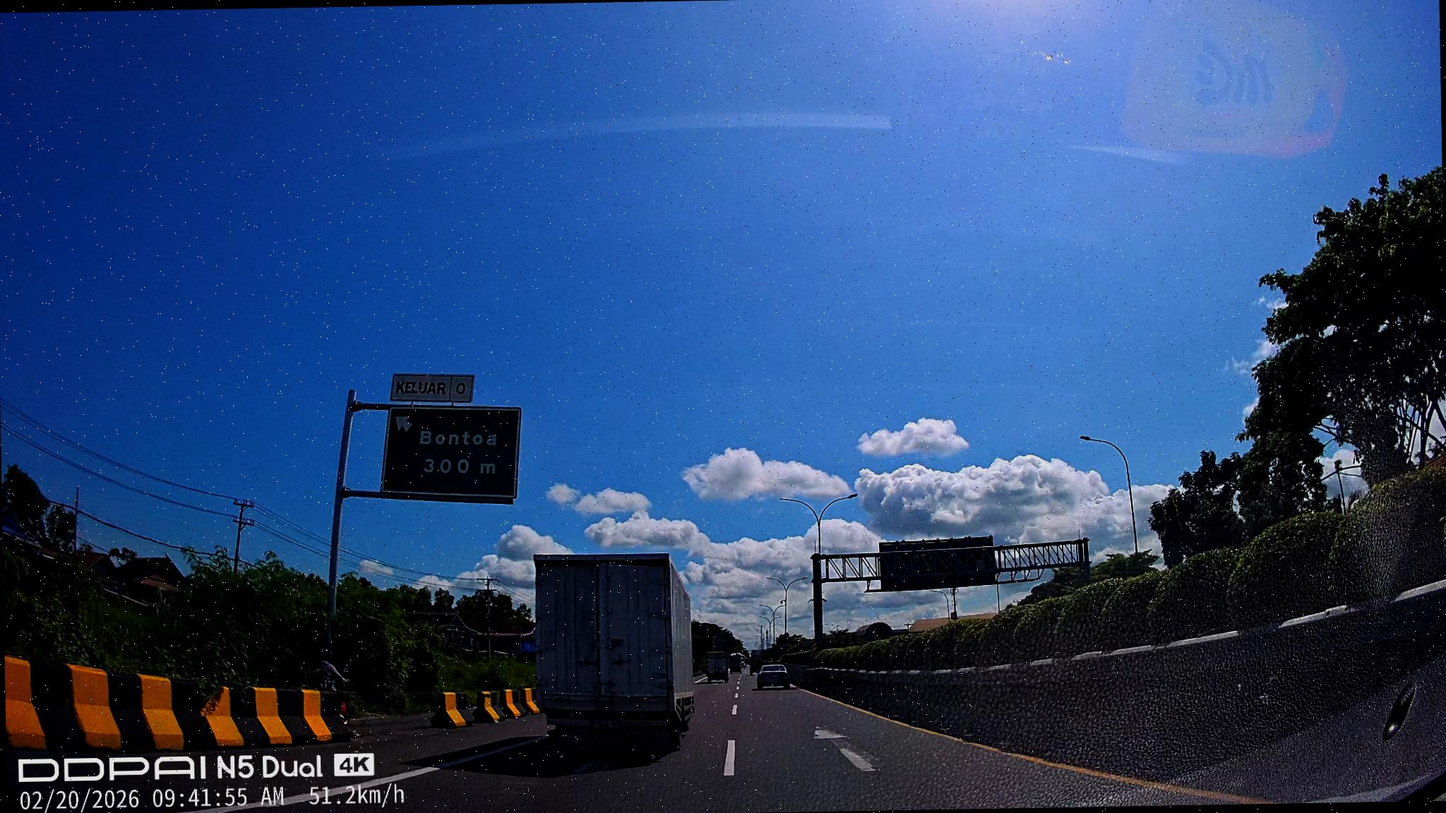rambu_teks: (384, 401, 520, 498)
